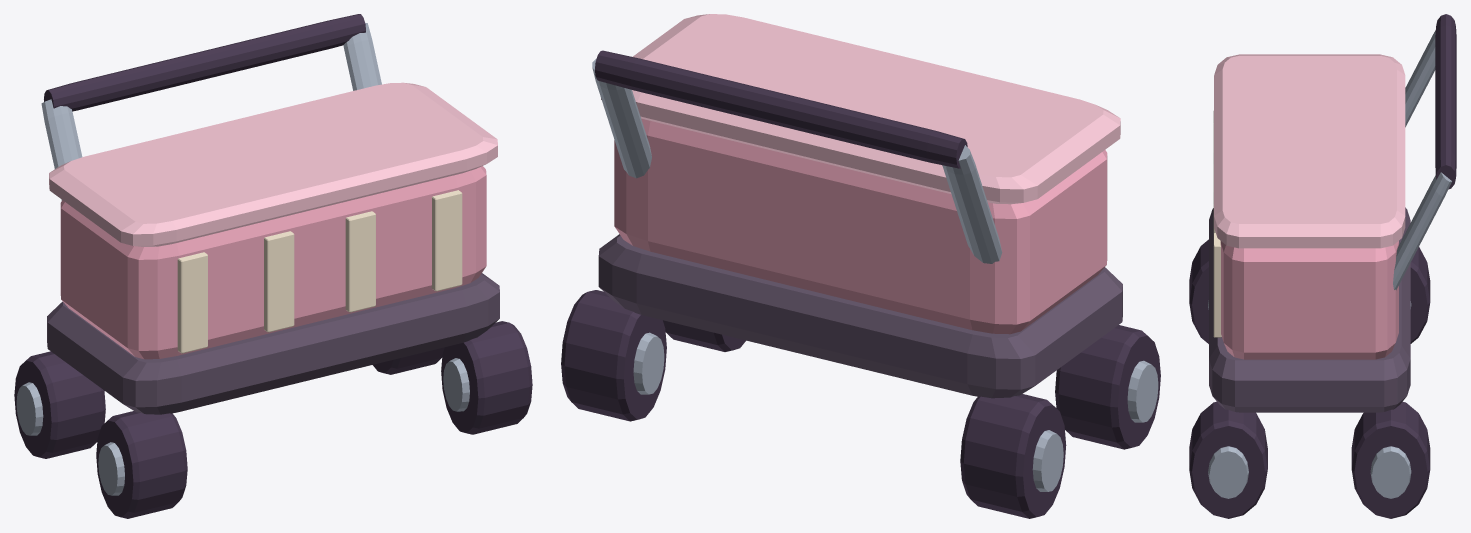
The model's file is sale_trolley.glb.
3 views of the same model, side by side, from view 1: azimuth 30°, elevation 25°; view 2: azimuth 150°, elevation 25°; view 3: azimuth 270°, elevation 25° (orthographic). The views are drawn at different scales.
Visible parts, largest first — view 1: model, basket, tire, hub; view 2: model, basket, tire, hub; view 3: model, basket, tire, hub.
Part boxes in pixels (left/top/right/bottom): model: left=41, top=14, right=499, bottom=414; basket: left=60, top=166, right=486, bottom=359; tire: left=14, top=321, right=532, bottom=518; hub: left=16, top=358, right=469, bottom=495; model: left=592, top=14, right=1122, bottom=398; basket: left=614, top=118, right=1107, bottom=334; tire: left=561, top=290, right=1160, bottom=518; hub: left=633, top=332, right=1158, bottom=491; model: left=1209, top=14, right=1456, bottom=412; basket: left=1220, top=241, right=1398, bottom=359; tire: left=1189, top=239, right=1430, bottom=518; hub: left=1208, top=300, right=1411, bottom=498.
Bounding box in the file's own units: 1.15 × 0.9 × 0.65.
